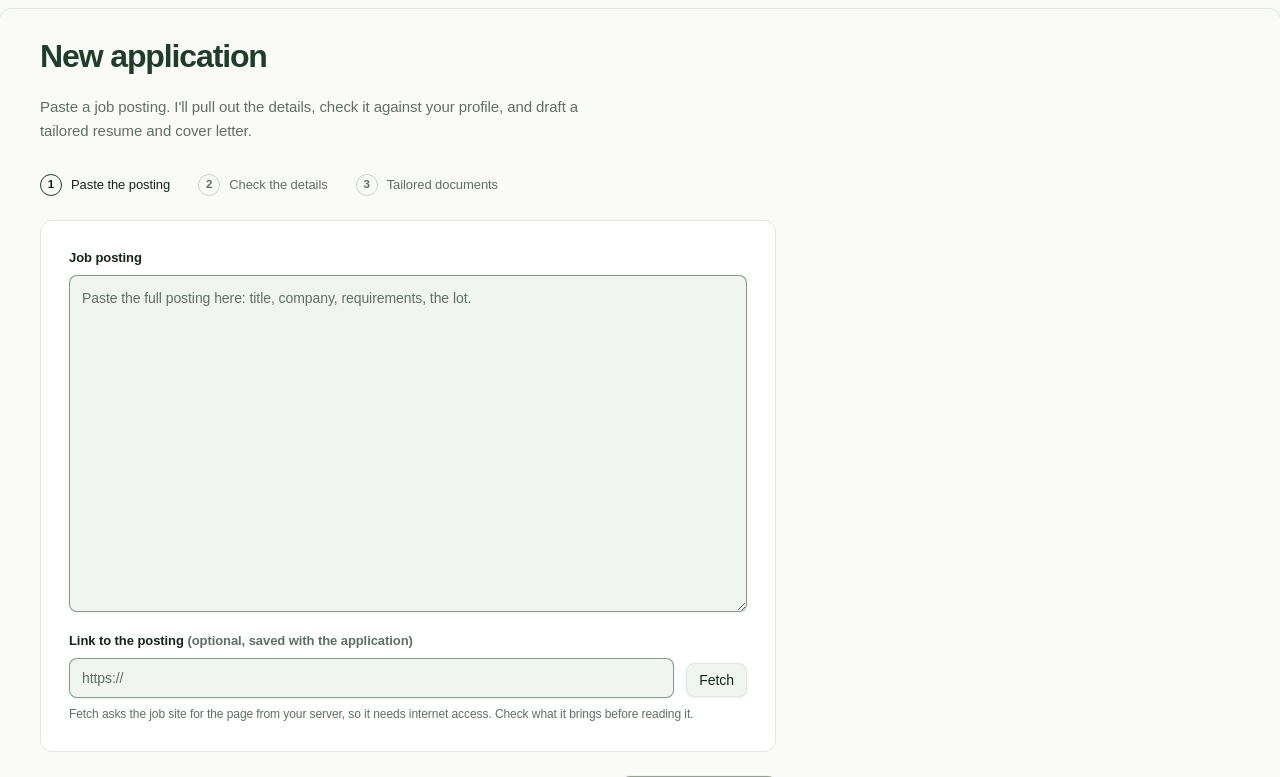
Scenario: the reading step (E7-2) › offers Retry and a way back with the text intact when it fails
In the text box labelled "Job posting": (408, 443) [69,275,747,612], type "Ledgerly is hiring."
(page scrolled)
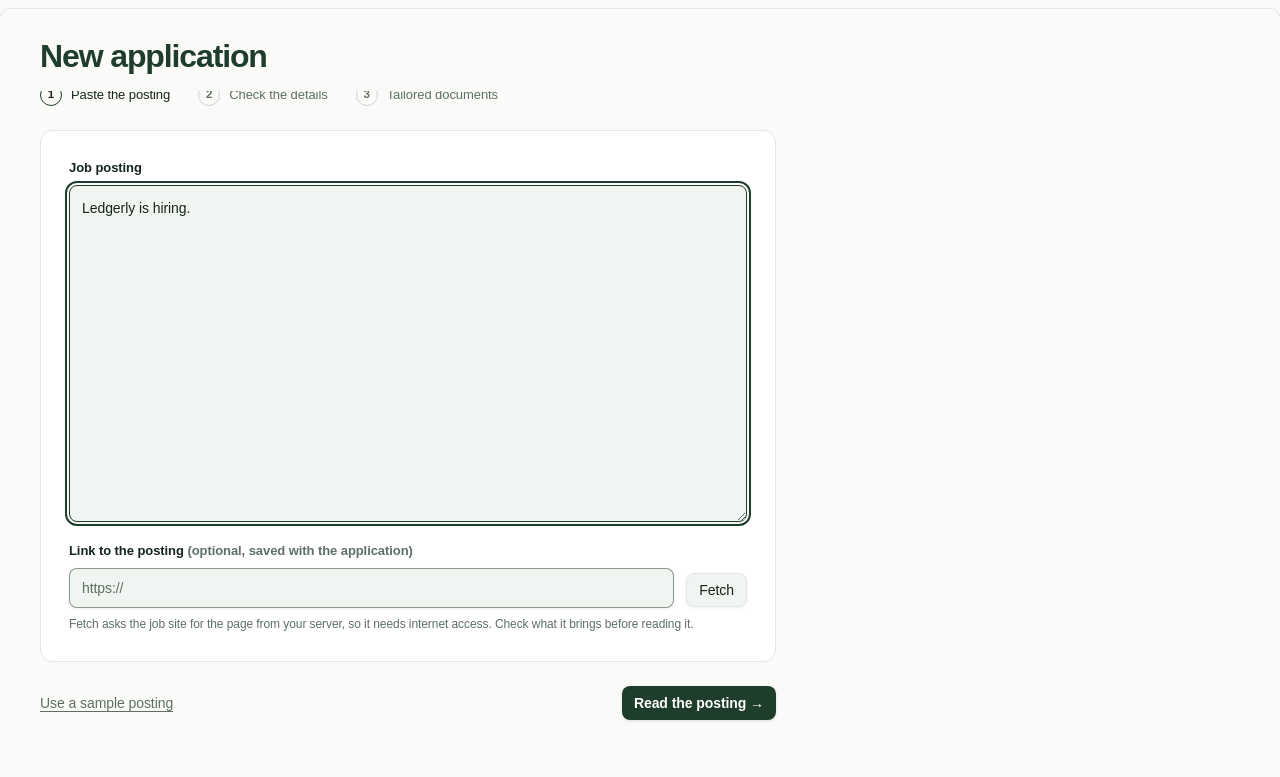
Click the button "Read the posting →": (699, 703) [622,686,776,720]
(page scrolled)
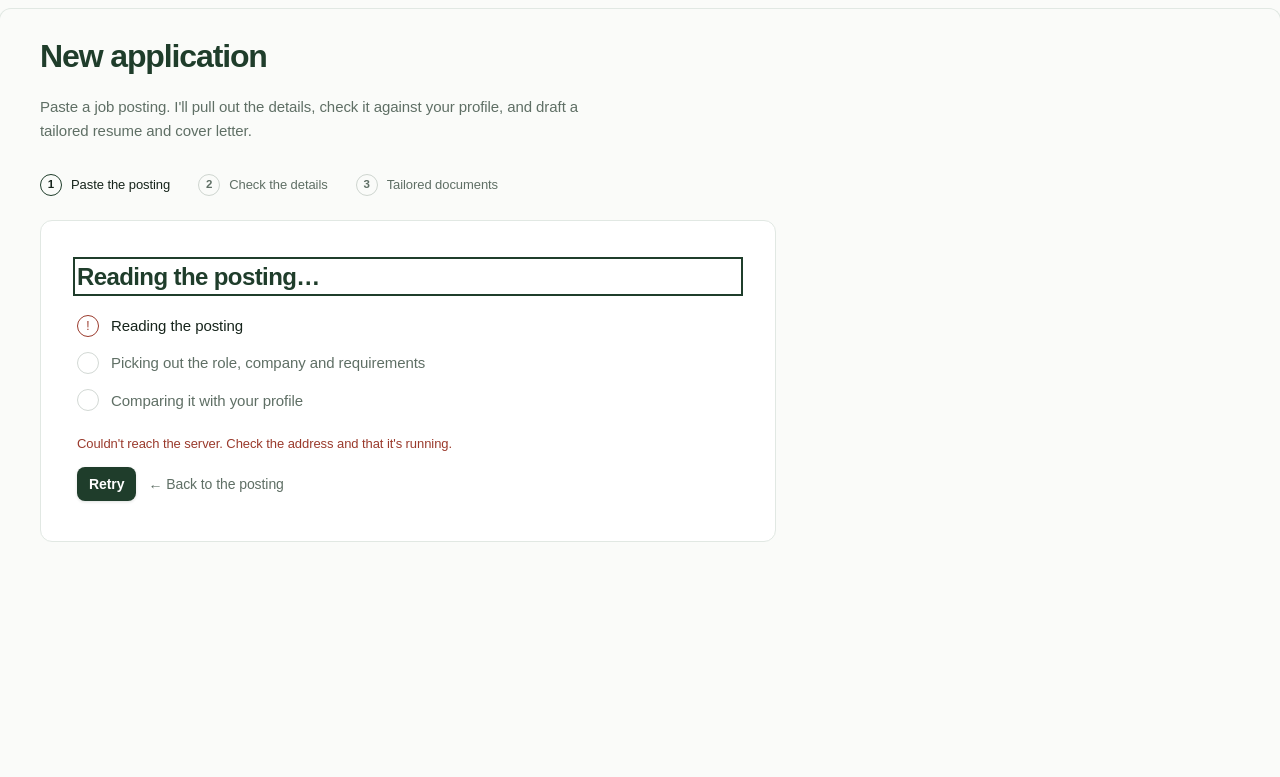
Now the message shows "Couldn't reach the server.", box [77,436,452,451]
Now the button "Retry" is shown, box [77,467,136,501]
Click the button "← Back to the posting": (216, 484) [148,467,284,501]
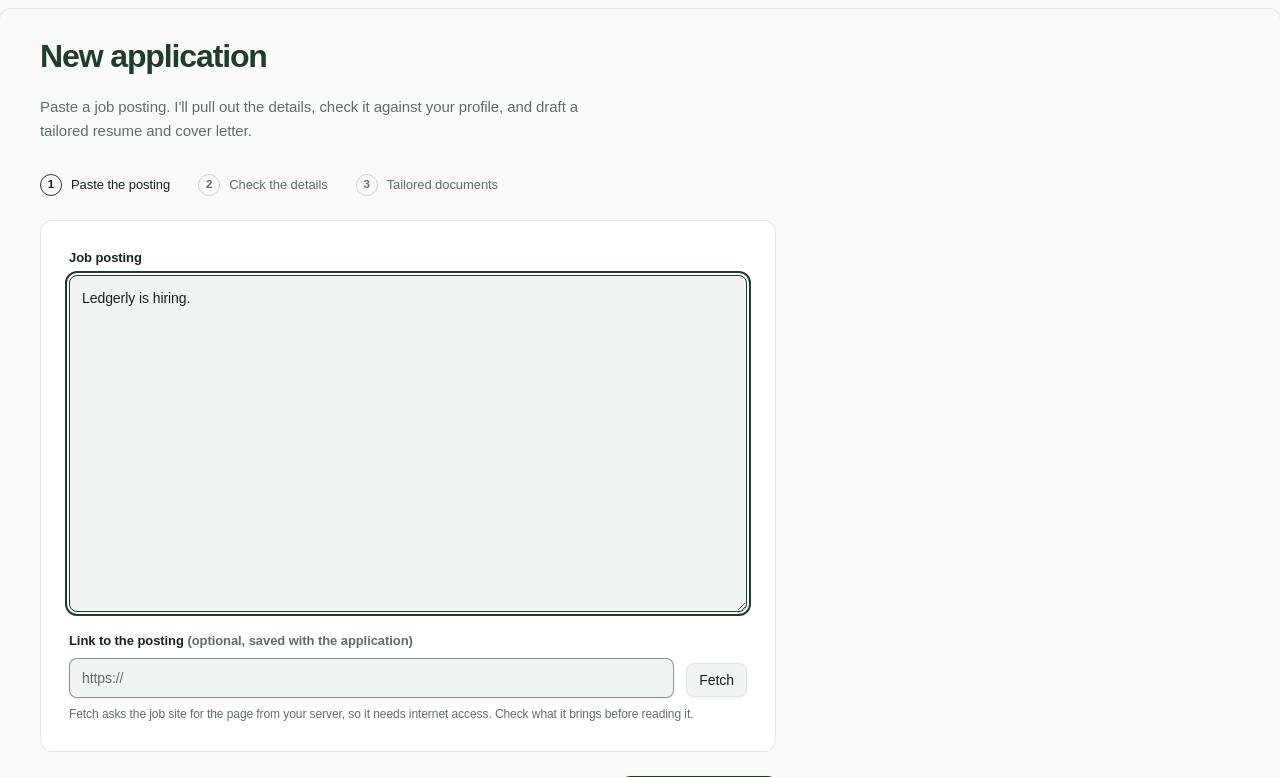
Now the text box labelled "Job posting" holds "Ledgerly is hiring.", box [69,275,747,612]
